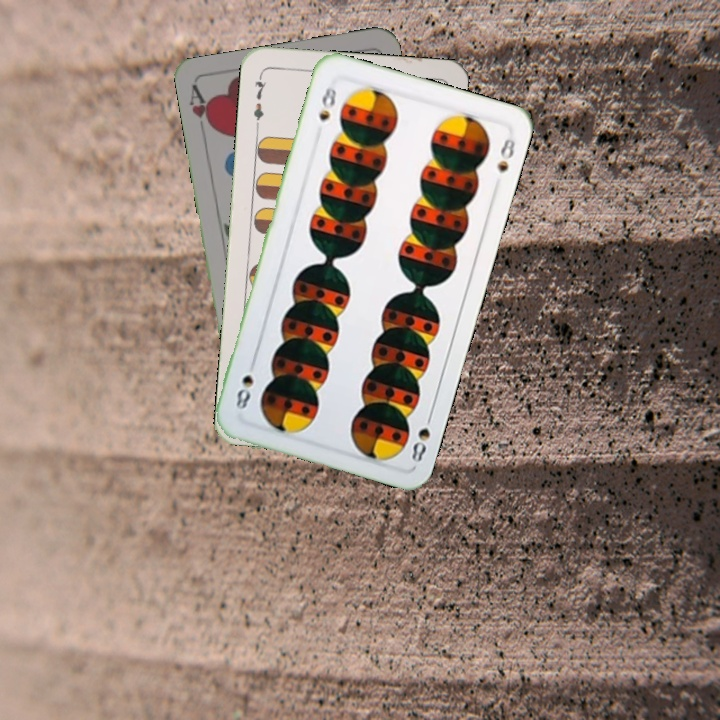E7: (249, 70, 269, 130)
HA: (185, 82, 217, 141)
S8: (407, 408, 436, 465), (315, 82, 339, 124)
